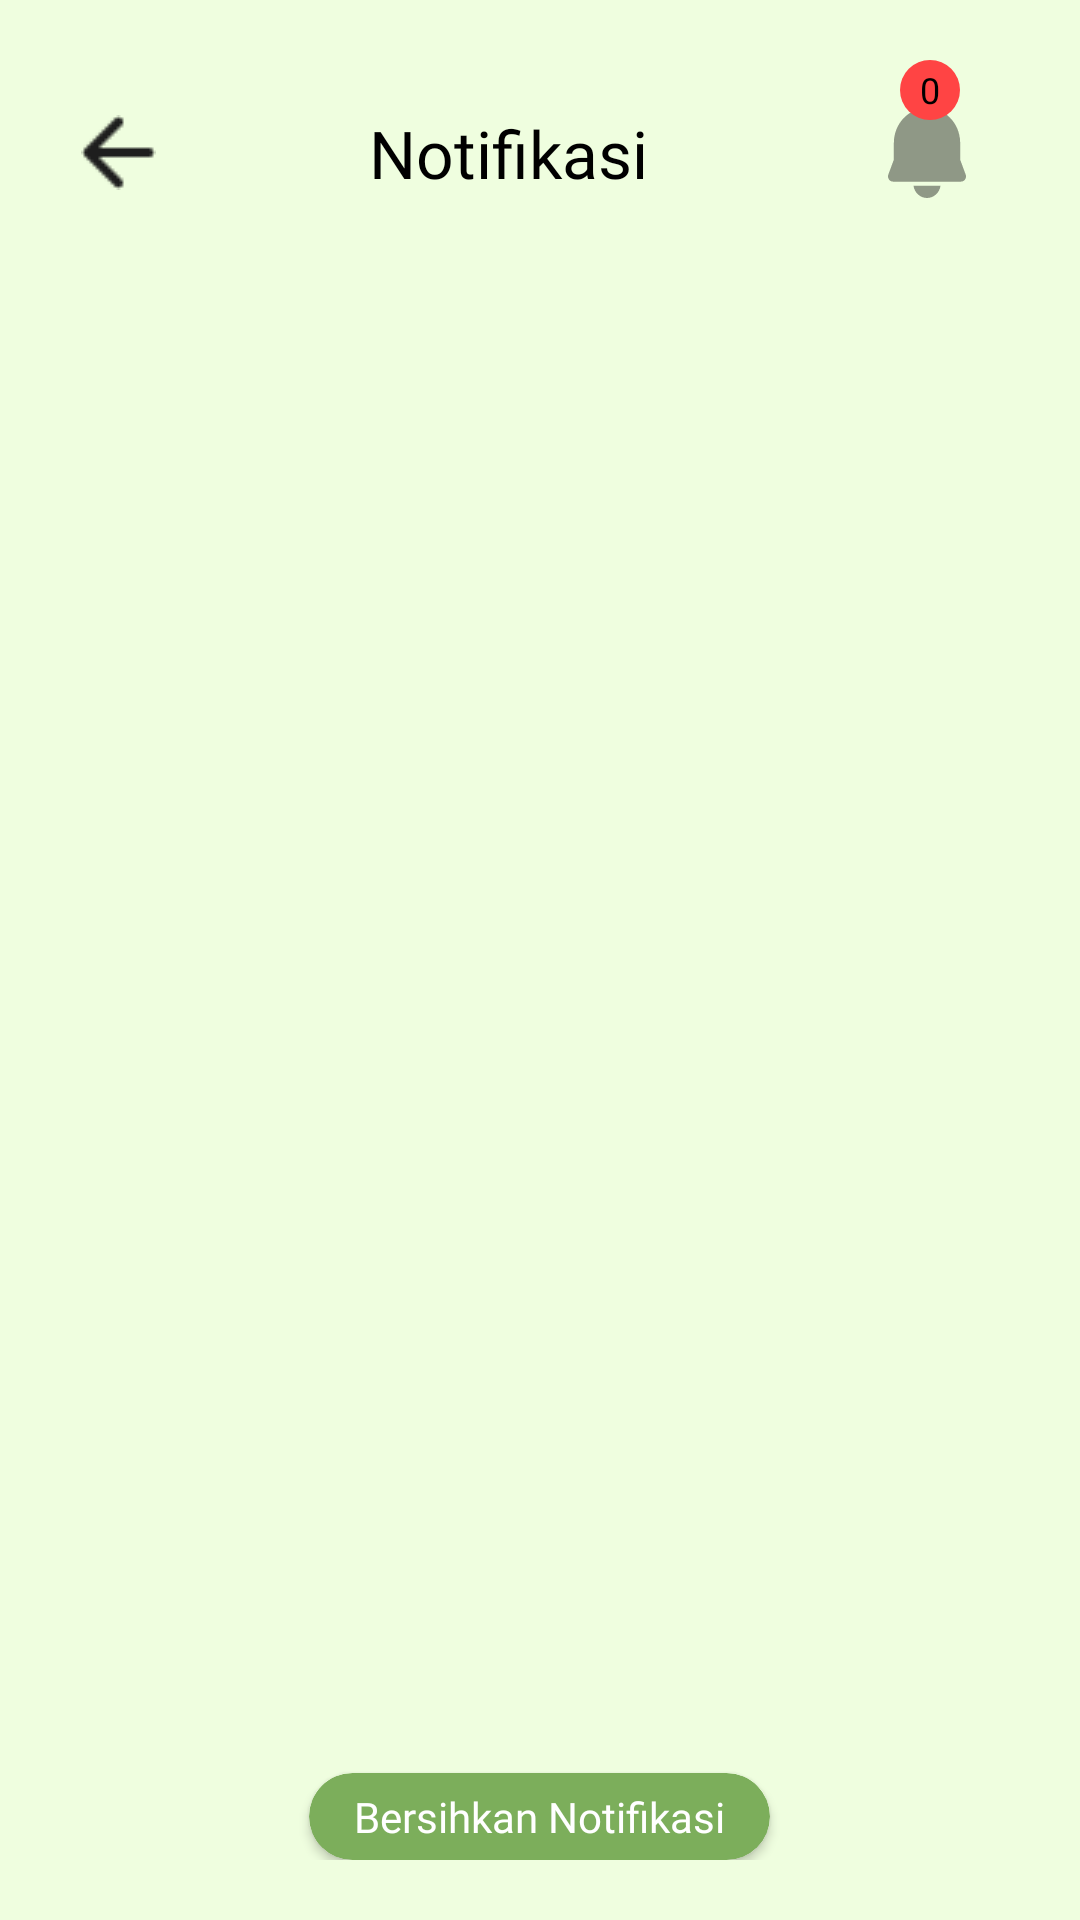

Where icons sit on this 1080x1920 app screen, as {"left": x1, "top": y1, "right": x2, "bottom": y2}:
back: {"left": 81, "top": 115, "right": 156, "bottom": 190}
